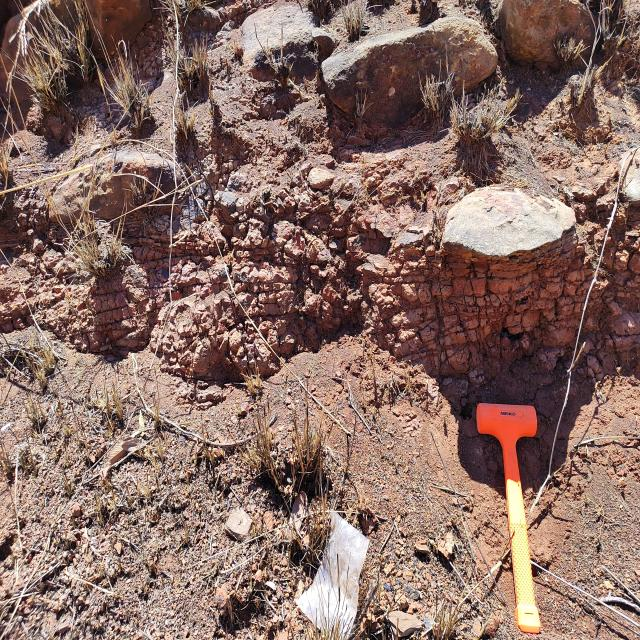Orange_hammer: (475, 401, 541, 634)
